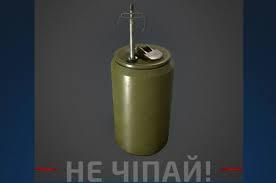OZM 72: (110, 42, 175, 156)
